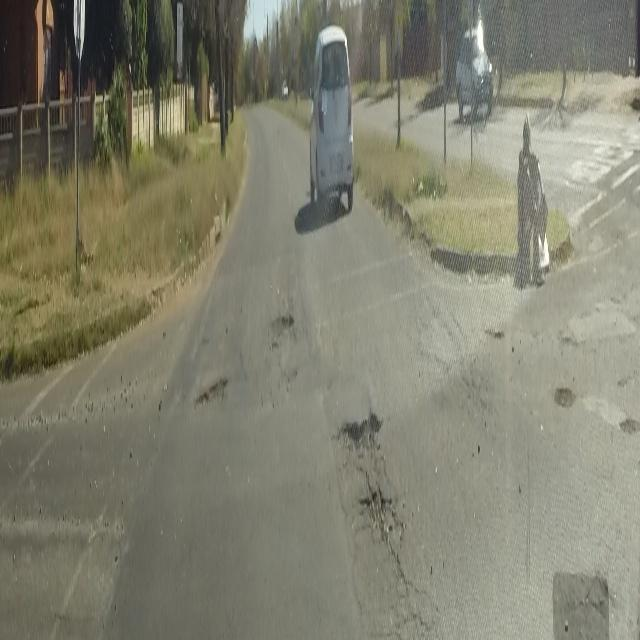pothole: (334, 404, 386, 464), (353, 482, 392, 538), (190, 361, 228, 409), (552, 374, 574, 416), (268, 304, 294, 339), (614, 364, 631, 391), (622, 404, 634, 438), (489, 318, 504, 342)
